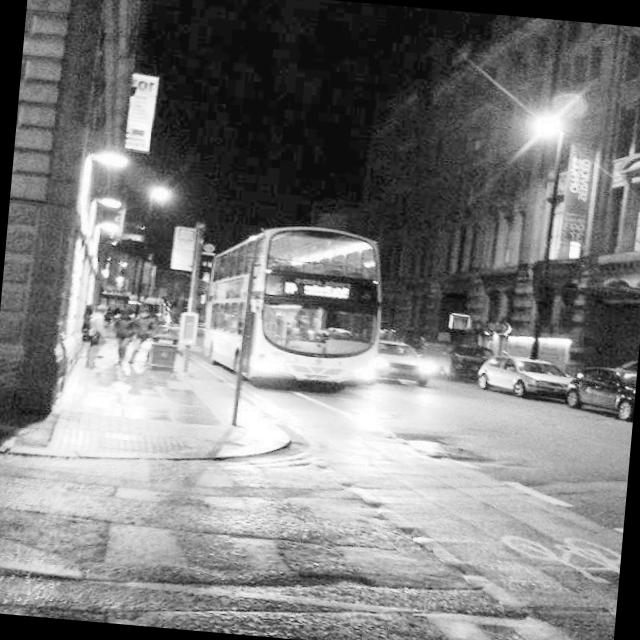Bus: (190, 205, 410, 412)
Car: (344, 318, 448, 400), (572, 347, 638, 452), (484, 342, 561, 414)
